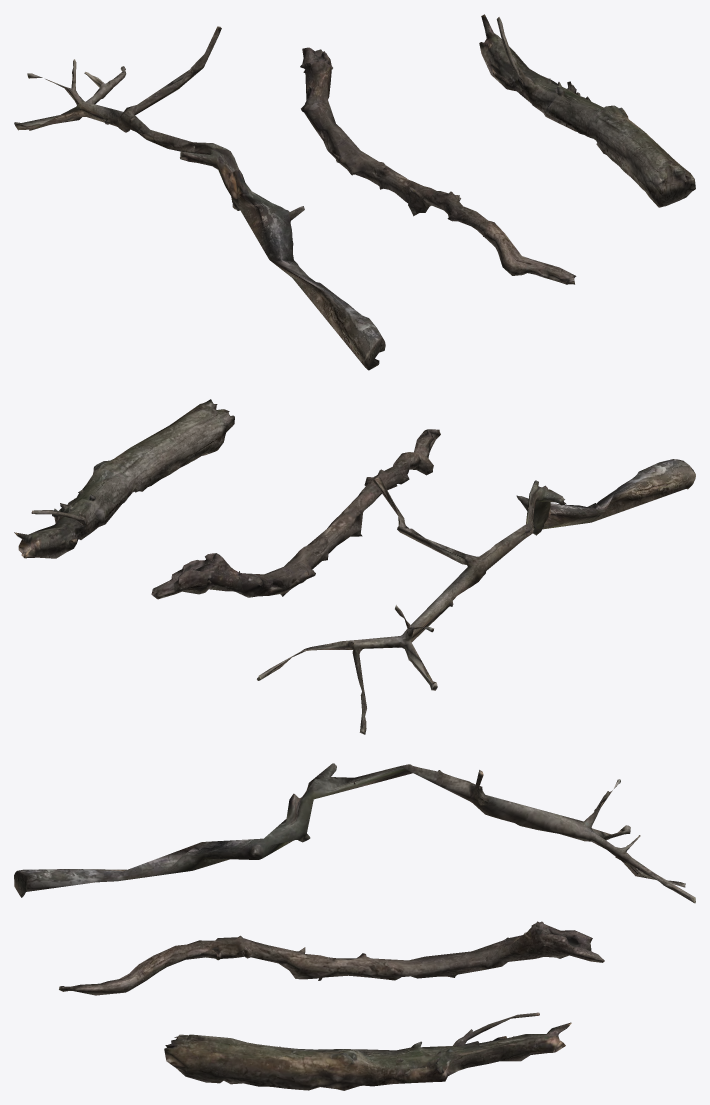
File: dry_branches_medium_01.glb
3 views of the same model, one above another, from view 1: azimuth 30°, elevation 25°; view 2: azimuth 150°, elevation 25°; view 3: azimuth 270°, elevation 25° (orthographic). The views are drawn at different scales.
Parts seen in each view (by area): view 1: dry_branches_medium_01_a, dry_branches_medium_01_c, dry_branches_medium_01_b; view 2: dry_branches_medium_01_a, dry_branches_medium_01_c, dry_branches_medium_01_b; view 3: dry_branches_medium_01_c, dry_branches_medium_01_a, dry_branches_medium_01_b.
Part boxes in pixels (bbox=[...]): dry_branches_medium_01_a: bbox=[14, 26, 385, 370]; dry_branches_medium_01_c: bbox=[479, 14, 695, 207]; dry_branches_medium_01_b: bbox=[300, 47, 576, 284]; dry_branches_medium_01_a: bbox=[257, 459, 695, 734]; dry_branches_medium_01_c: bbox=[14, 399, 234, 558]; dry_branches_medium_01_b: bbox=[151, 429, 440, 599]; dry_branches_medium_01_c: bbox=[164, 1012, 571, 1090]; dry_branches_medium_01_a: bbox=[14, 763, 695, 903]; dry_branches_medium_01_b: bbox=[59, 921, 604, 995].
Size of the model in its own units: 1.06 by 0.3401 by 1.3.
Materials: 1 (1 with a texture image).
